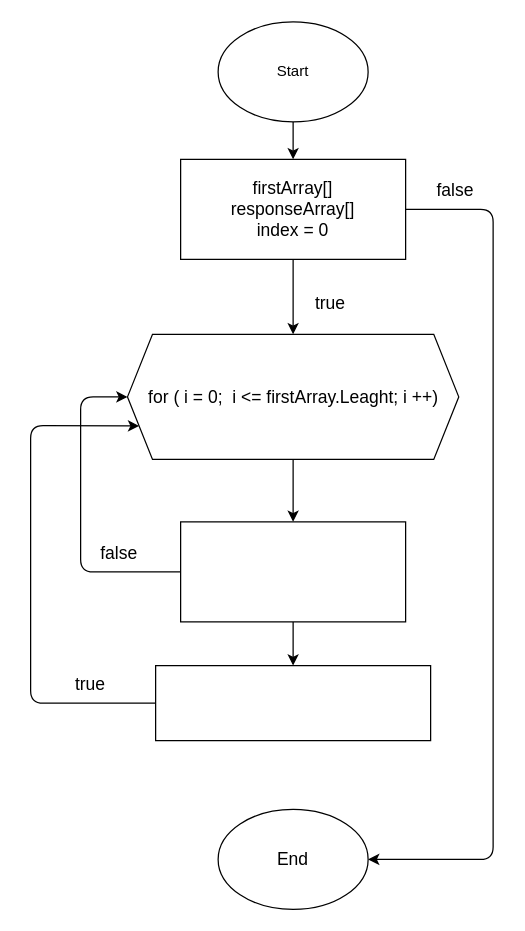
This 525x931 diagram has some shape labels left out. The shapes that lost their labels are listed below. From the top down, each one's centre as x and y in pixels, then its label:
point (292, 571): if ( firstArray[i].Leaght <= 3)
point (292, 702): responseArray[index] = firstArray[i] index ++
